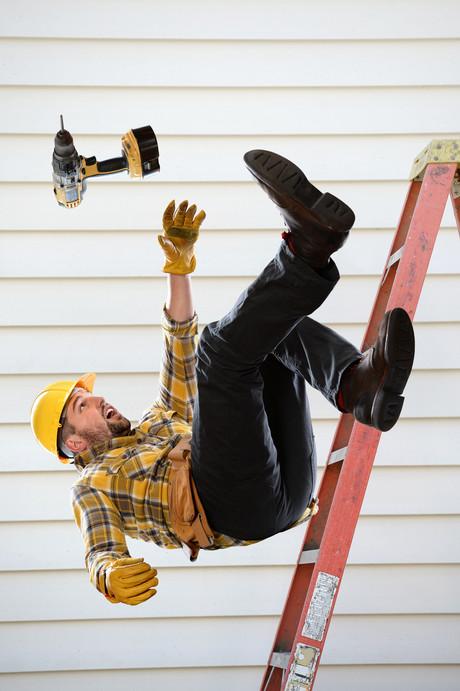fall: (21, 104, 429, 623)
